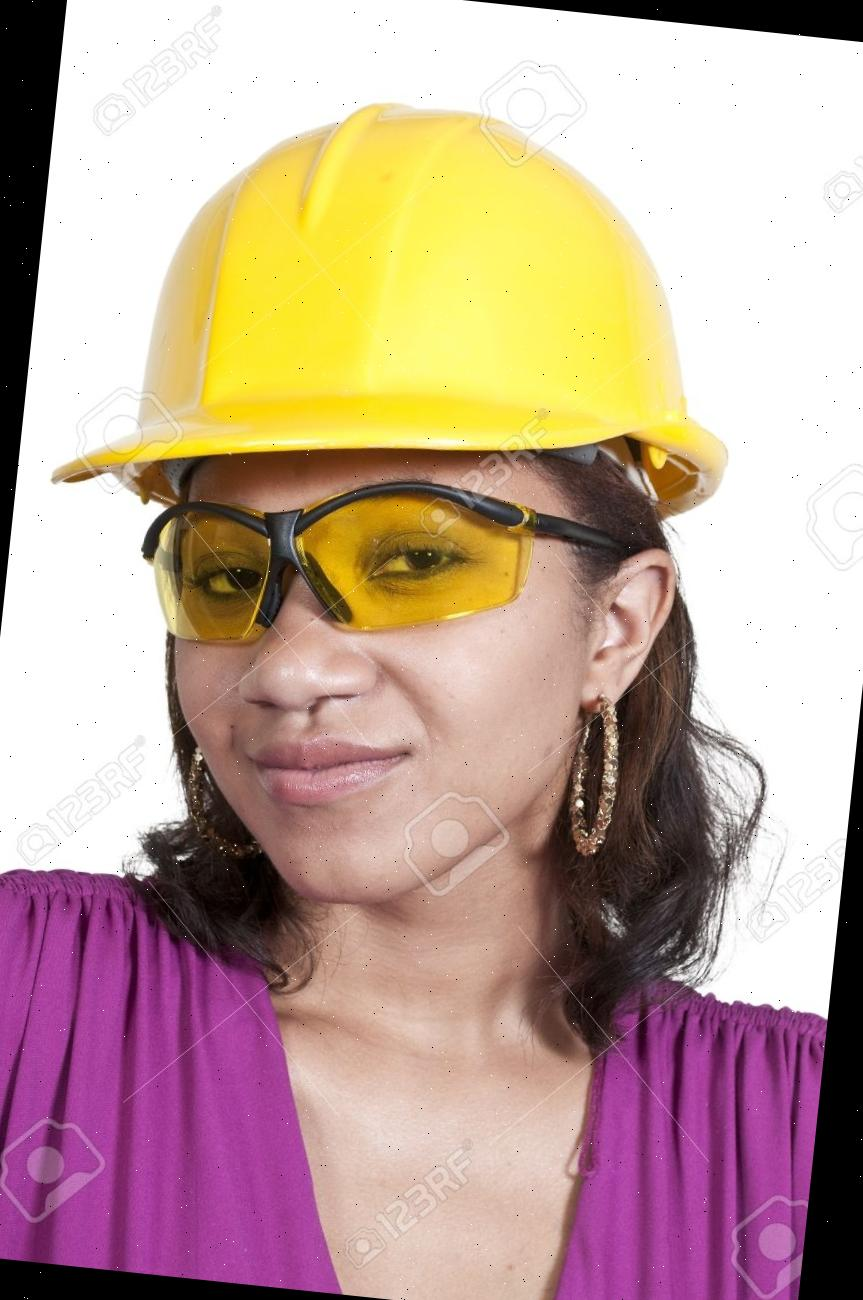helmet: (34, 67, 768, 574)
no_wear: (0, 902, 829, 1300)
